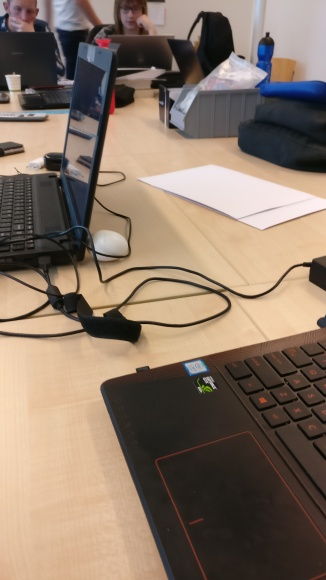egg: (89, 228, 131, 264)
